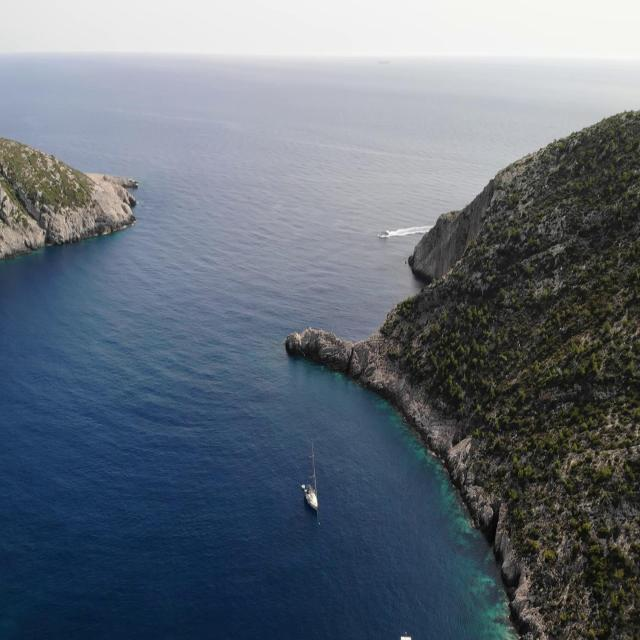sailboat: (302, 441, 318, 514)
